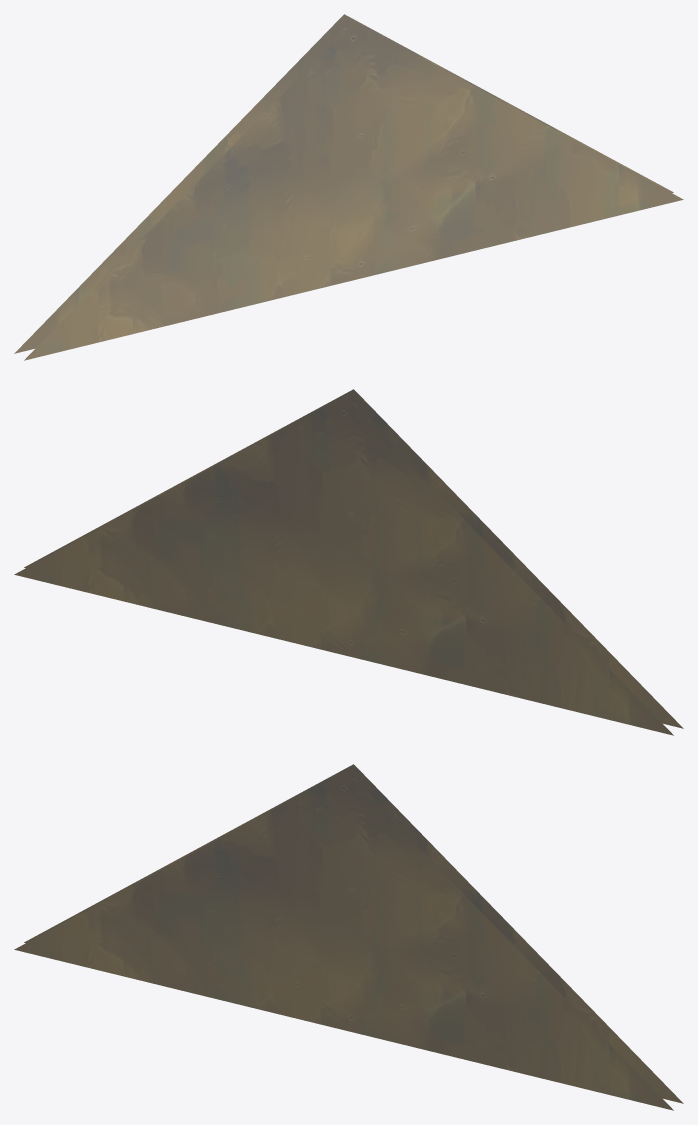
File: SM_MOD_wall_triangle_stone_town.fbx
The picture shows the model from 3 angles, top to bottom: view 1: azimuth 30°, elevation 25°; view 2: azimuth 150°, elevation 25°; view 3: azimuth 330°, elevation 25°; orthographic projection.
Parts seen in each view (by area): view 1: SM_MOD_wall_triangle_stone_town; view 2: SM_MOD_wall_triangle_stone_town; view 3: SM_MOD_wall_triangle_stone_town.
Boxes of the visible parts, x1=… form: SM_MOD_wall_triangle_stone_town: x1=14, y1=14, x2=683, y2=360; SM_MOD_wall_triangle_stone_town: x1=14, y1=389, x2=683, y2=735; SM_MOD_wall_triangle_stone_town: x1=14, y1=764, x2=683, y2=1110.
Bounding box in the file's own units: 368 × 138 × 9.2.
